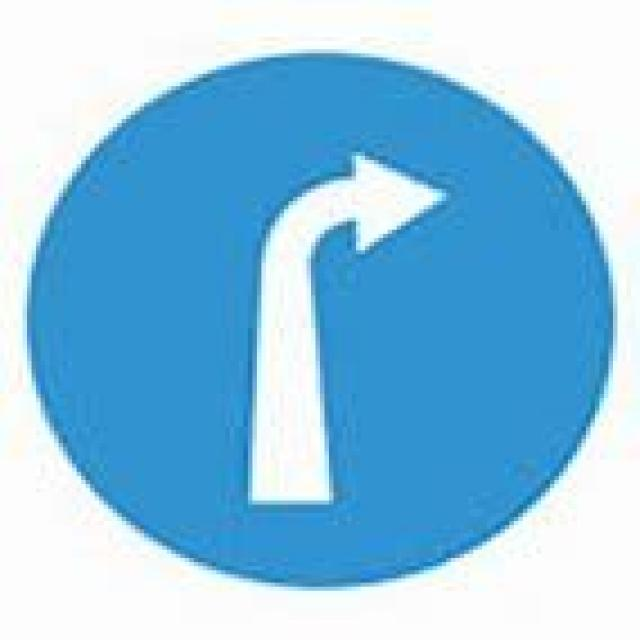COMPULSARY_TURN_RIGHT_AHEAD: (22, 45, 613, 587)
